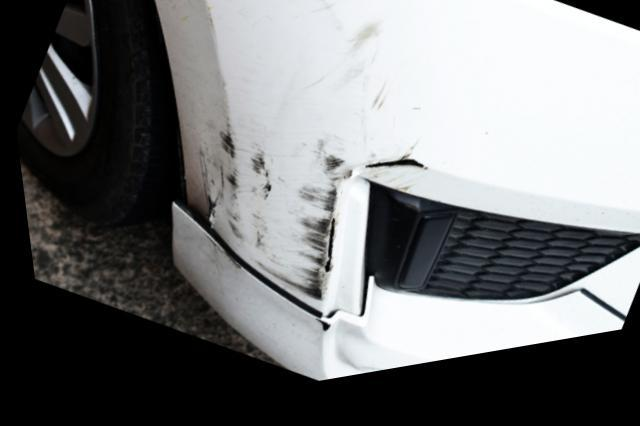scratch: (193, 128, 428, 315), (306, 0, 398, 139)
